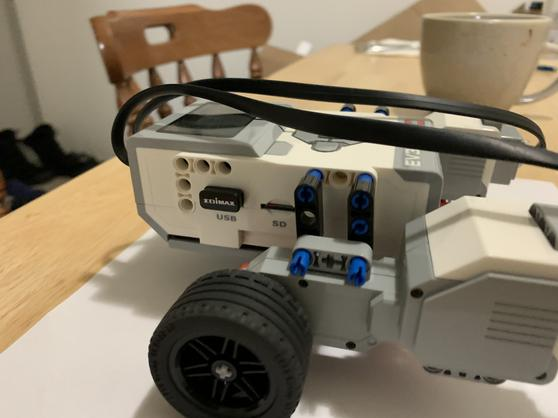robot: (104, 65, 558, 418)
